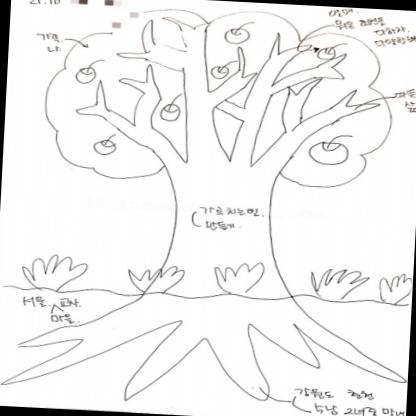apple: (305, 132, 353, 167), (223, 19, 254, 45), (74, 57, 102, 84), (318, 40, 346, 61), (161, 94, 181, 123), (93, 133, 118, 156), (210, 60, 235, 79)
branch_sharp: (75, 12, 384, 182)
crown_cloud: (42, 2, 398, 193)
root_under: (0, 250, 412, 414)
trunk_straight: (164, 178, 280, 262)
